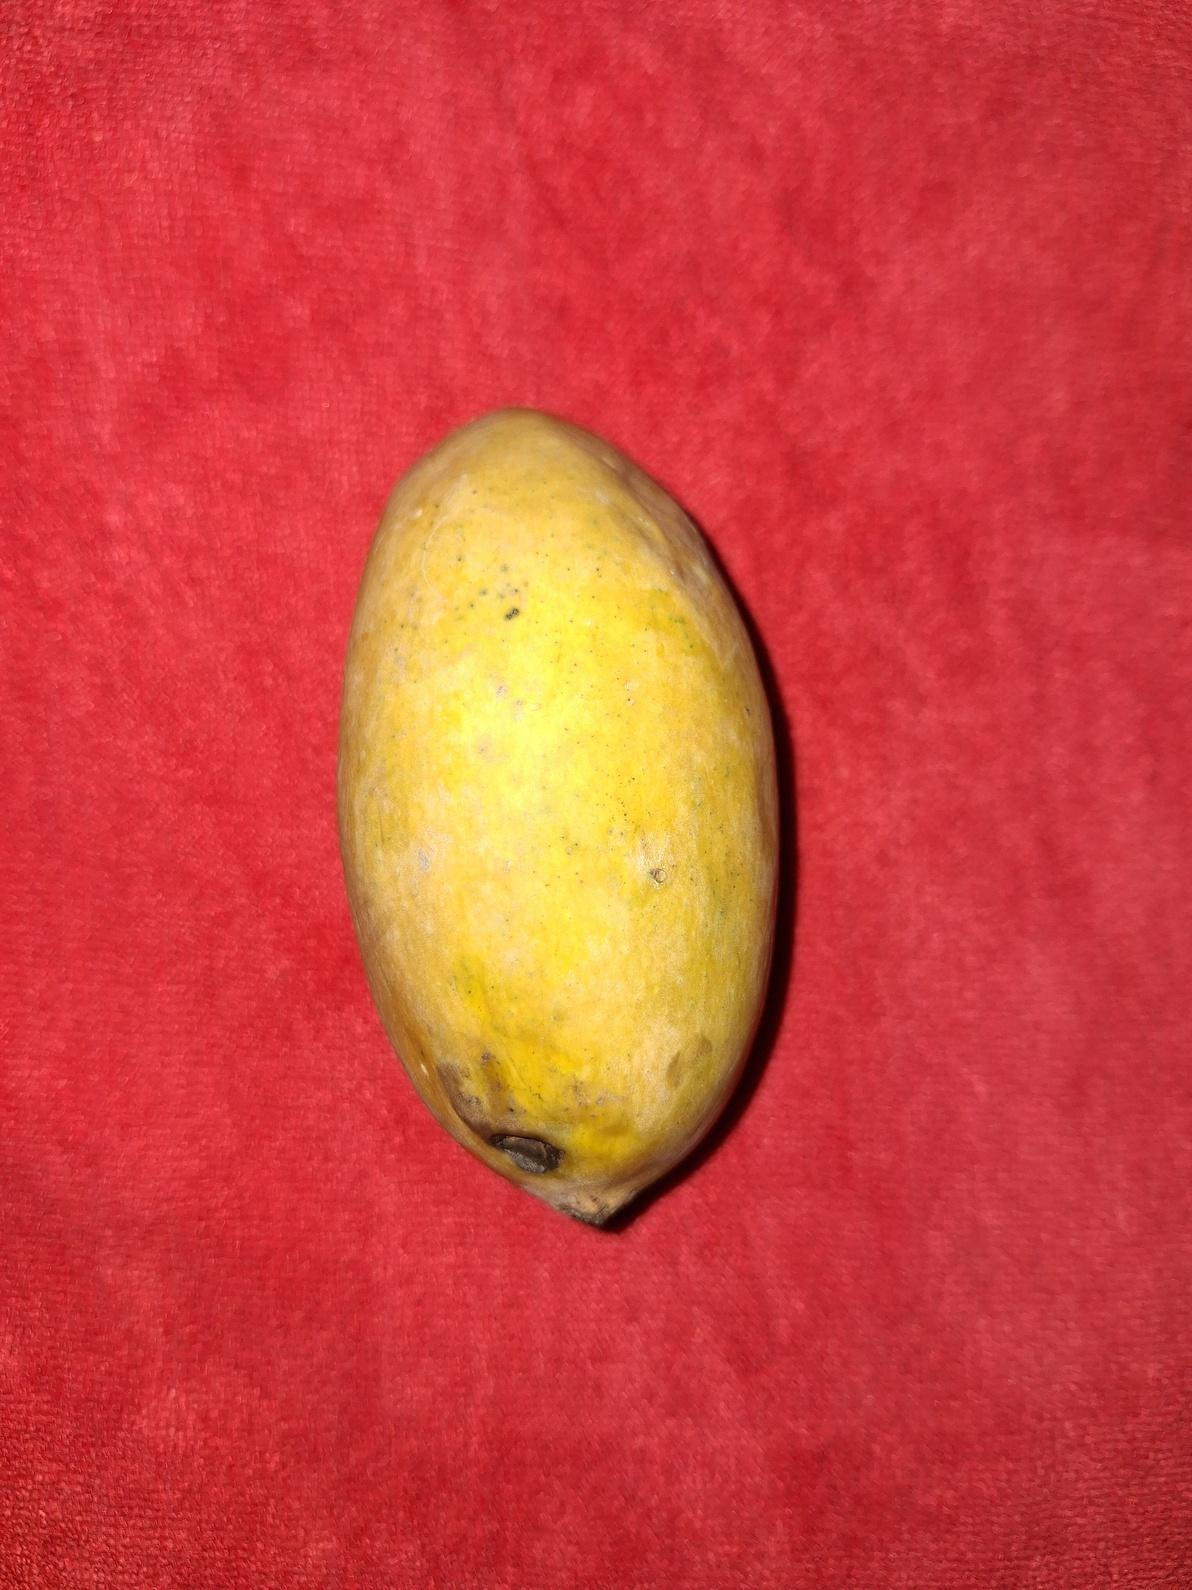mango: (334, 404, 781, 1226)
